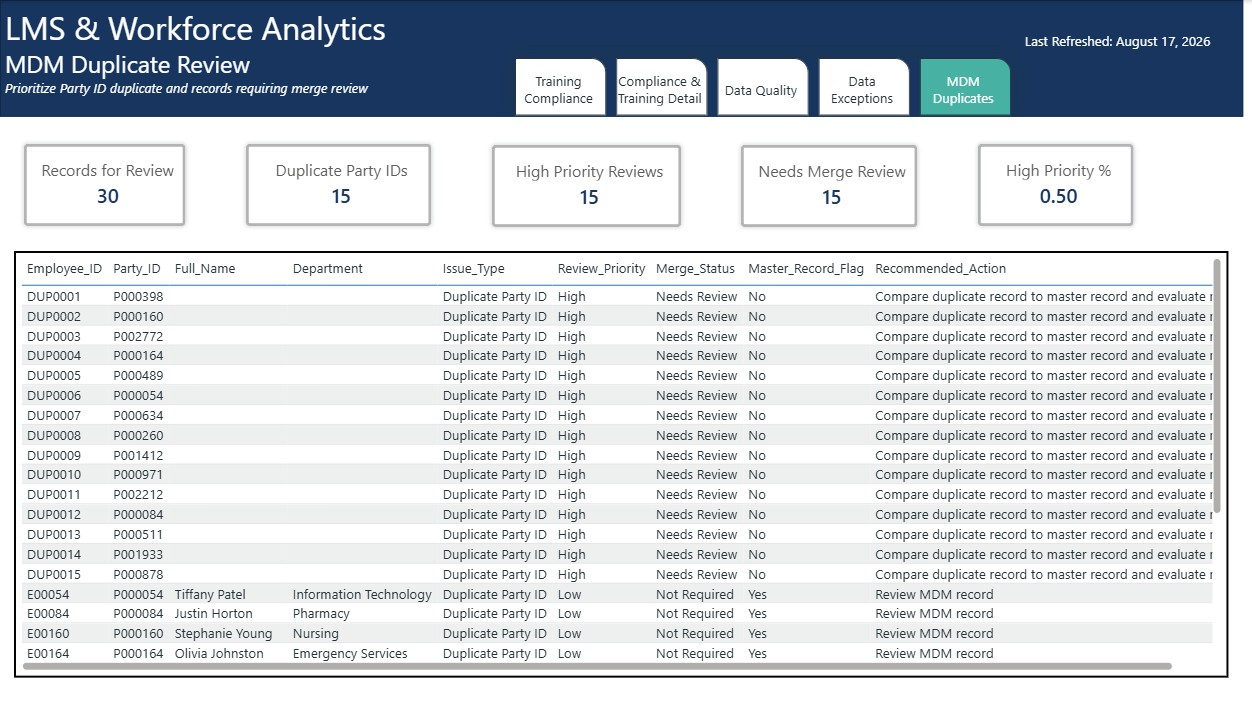

This screenshot's page, from the dashboard's own definition file:
{"tool":"powerbi","page":{"name":"MDM Duplicates","canvas":[1280,720],"ordinal":5},"visuals":[{"type":"shape","box":[0,0,1253.1,117.6],"z":0},{"type":"pageNavigator","box":[519.2,58.8,501,58.8],"z":1000},{"type":"cardVisual","fields":{"Data":["vw_MDM_DuplicateReview.Records for Review"]},"box":[0,121,211,131],"z":2000},{"type":"cardVisual","fields":{"Data":["vw_MDM_DuplicateReview.Duplicate Party IDs 2"]},"box":[223.5,121,235.3,131],"z":3000},{"type":"textbox","box":[1028.1,26.9,206.5,31.9],"z":6000},{"type":"textbox","box":[0,0,640.6,117.6],"z":7000},{"type":"tableEx","fields":{"Values":["vw_MDM_DuplicateReview.Employee_ID","vw_MDM_DuplicateReview.Party_ID","vw_MDM_DuplicateReview.Full_Name","vw_MDM_DuplicateReview.Department","vw_MDM_DuplicateReview.Issue_Type","vw_MDM_DuplicateReview.Review_Priority","vw_MDM_DuplicateReview.Merge_Status","vw_MDM_DuplicateReview.Master_Record_Flag","vw_MDM_DuplicateReview.Recommended_Action"]},"box":[14.2,252.9,1224.2,430.3],"z":11000},{"type":"textbox","box":[450,118.3,802.6,105.1],"z":11501},{"type":"cardVisual","fields":{"Data":["vw_MDM_DuplicateReview.High Priority Reviews"]},"box":[471.3,121.5,239.1,131],"z":12001},{"type":"cardVisual","fields":{"Data":["vw_MDM_DuplicateReview.Needs Merge Review"]},"box":[722.9,121.5,226,131],"z":12501},{"type":"cardVisual","fields":{"Data":["vw_MDM_DuplicateReview.High Priority %"]},"box":[961.4,121,205.9,131],"z":13001}]}

Visuals, with their boxes in screenshot pixels (x1, y1, x2, y2), scaled from the page's 1280x720 canvas onto the 1252x702 screenshot:
shape: left=0, top=0, right=1226, bottom=115
pageNavigator: left=508, top=57, right=998, bottom=115
cardVisual - vw_MDM_DuplicateReview.Records for Review: left=0, top=118, right=206, bottom=246
cardVisual - vw_MDM_DuplicateReview.Duplicate Party IDs 2: left=219, top=118, right=449, bottom=246
textbox: left=1006, top=26, right=1208, bottom=57
textbox: left=0, top=0, right=627, bottom=115
tableEx - vw_MDM_DuplicateReview.Employee_ID x vw_MDM_DuplicateReview.Party_ID: left=14, top=247, right=1211, bottom=666
textbox: left=440, top=115, right=1225, bottom=218
cardVisual - vw_MDM_DuplicateReview.High Priority Reviews: left=461, top=118, right=695, bottom=246
cardVisual - vw_MDM_DuplicateReview.Needs Merge Review: left=707, top=118, right=928, bottom=246
cardVisual - vw_MDM_DuplicateReview.High Priority %: left=940, top=118, right=1142, bottom=246
